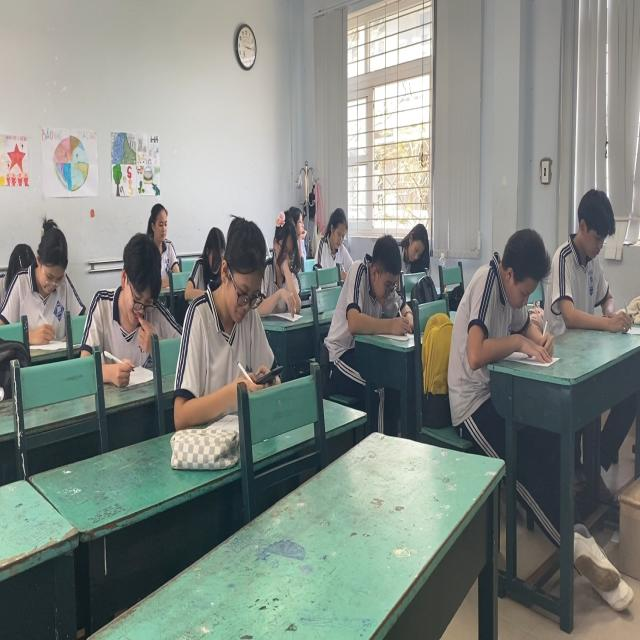not_cheating: (166, 224, 274, 486), (439, 242, 535, 493), (70, 225, 176, 416), (528, 195, 618, 381), (1, 223, 81, 378), (320, 238, 394, 405), (173, 216, 240, 325), (245, 221, 302, 349), (130, 212, 186, 304), (292, 218, 344, 313), (373, 218, 425, 311), (269, 202, 304, 296)
